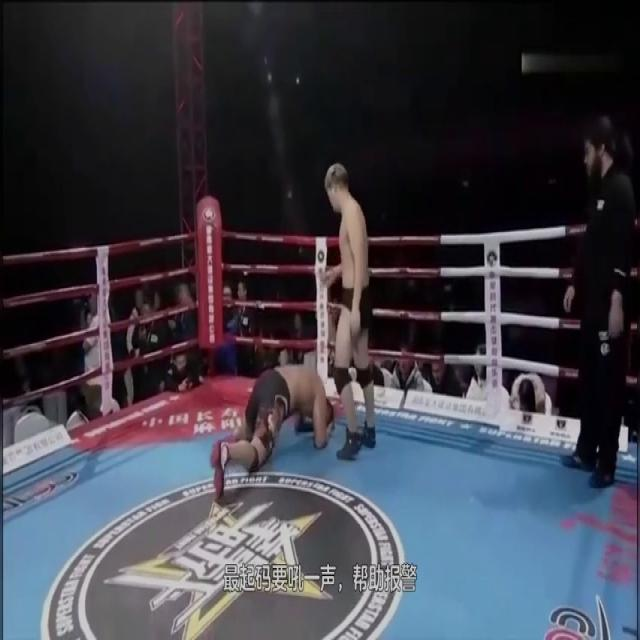fight: (210, 358, 333, 491), (320, 164, 375, 457)
non-fight: (557, 106, 639, 493)
